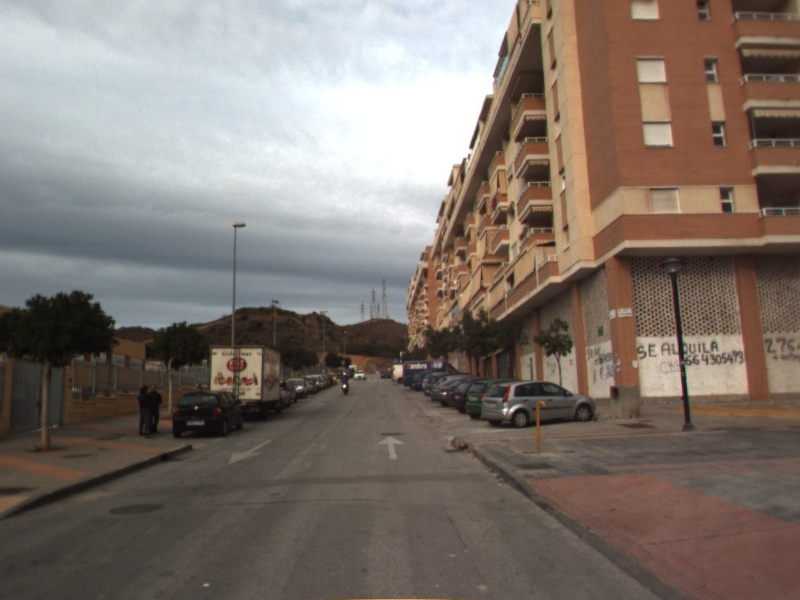STRAIGHT: (375, 433, 407, 461)
